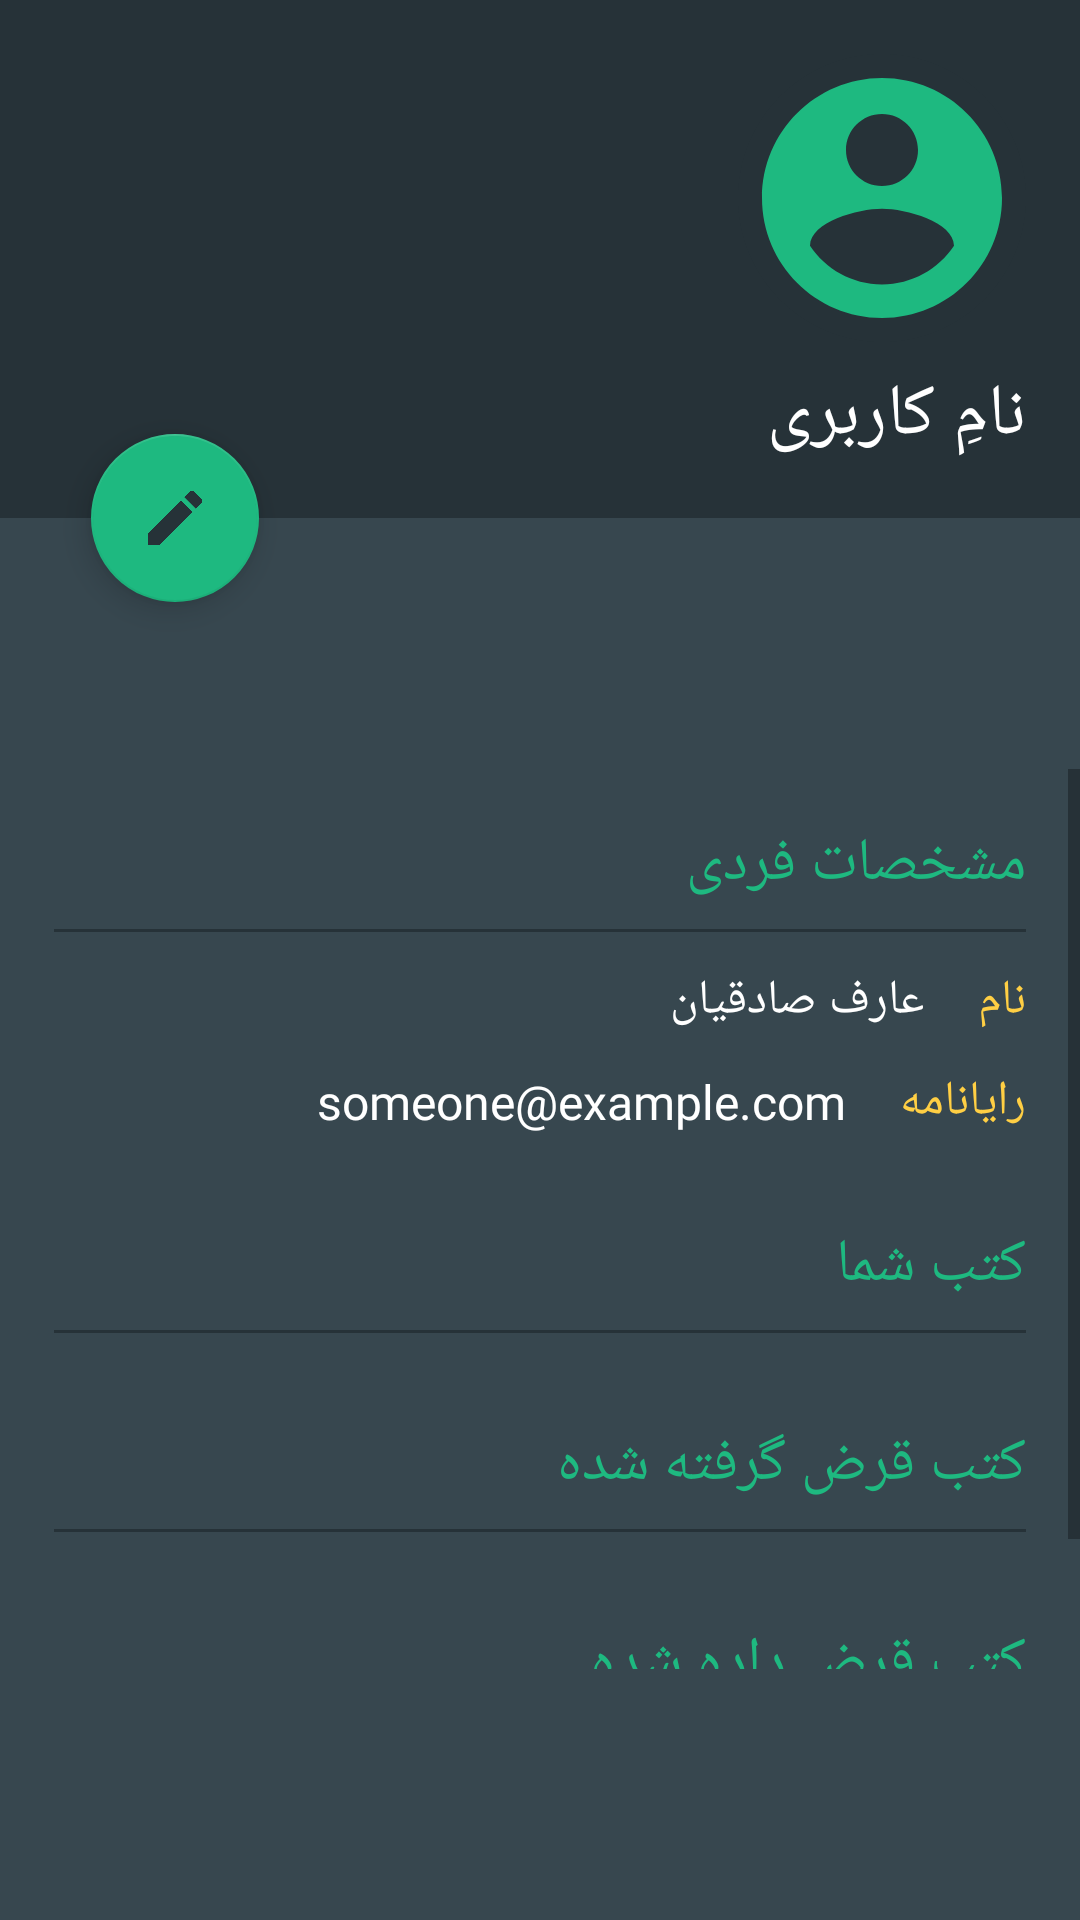

Screen size 1080 × 1920. Icon name, then its box in pixels as (x1, y1, x2, y2):
info dialog edit: (91, 434, 259, 602)
